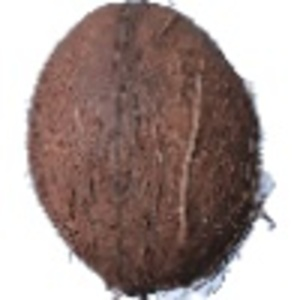coco: (26, 1, 276, 300)
